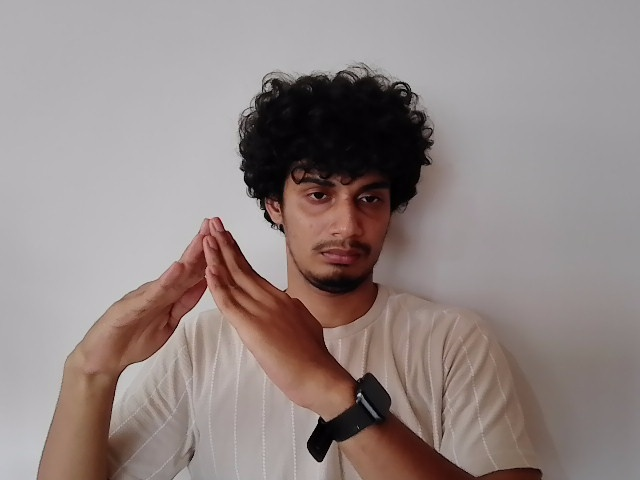home: (72, 214, 340, 380)
